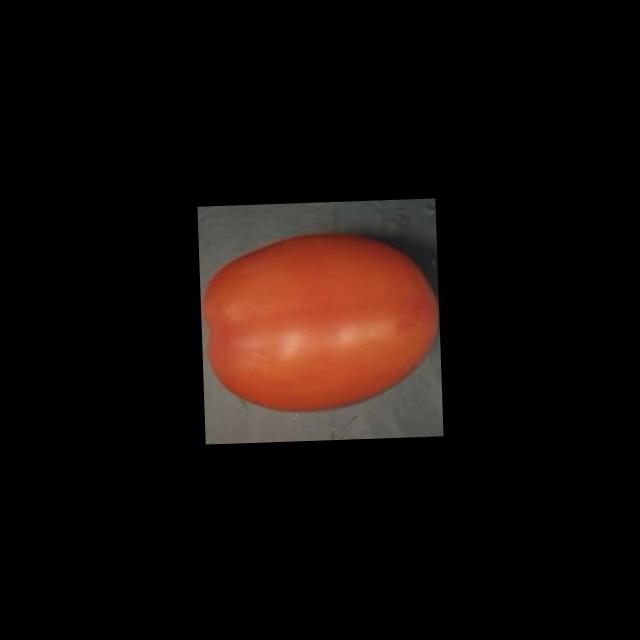tomato: (198, 222, 442, 421)
